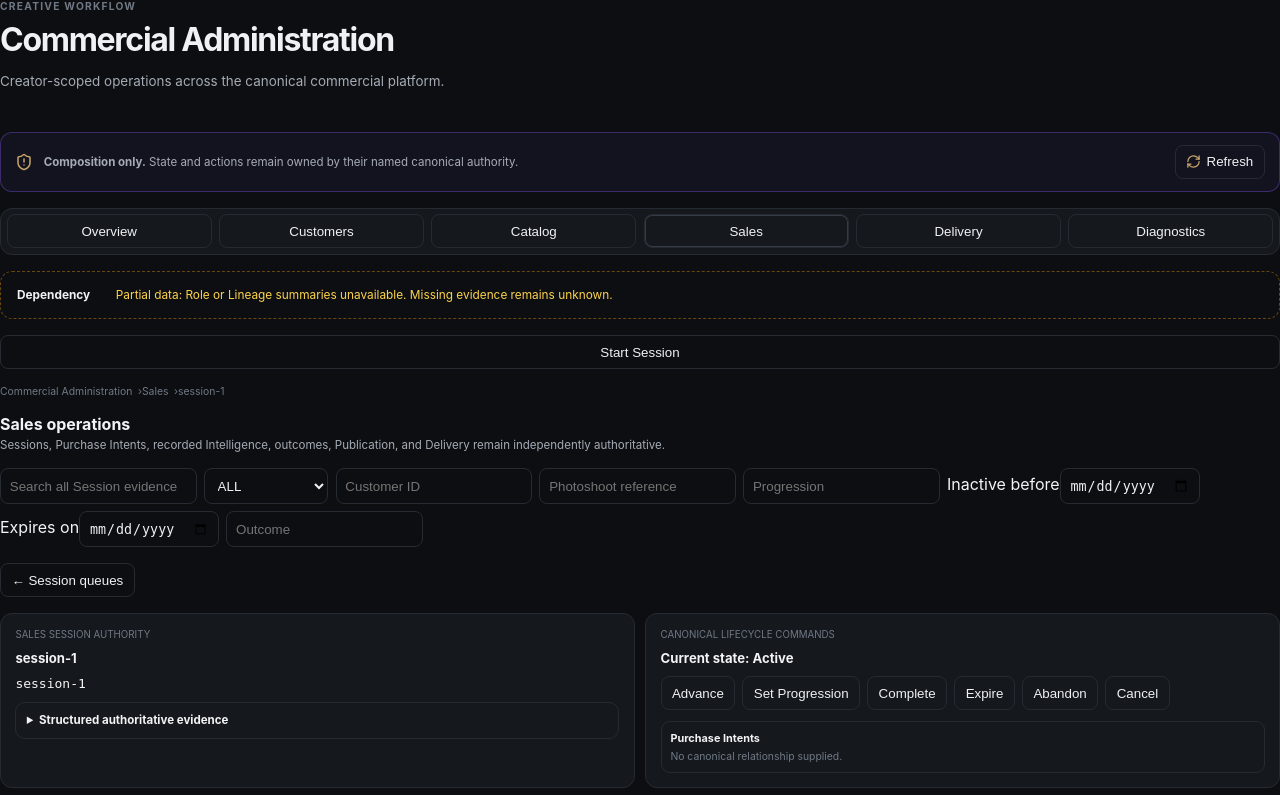
Test case: CommercialAdministrationPage › presents stale canonical Session transitions distinctly
What coordinates should you click on to do the following:
click the button "Complete"
I would click on:
 (907, 693)
Its box is [867,676,947,710].
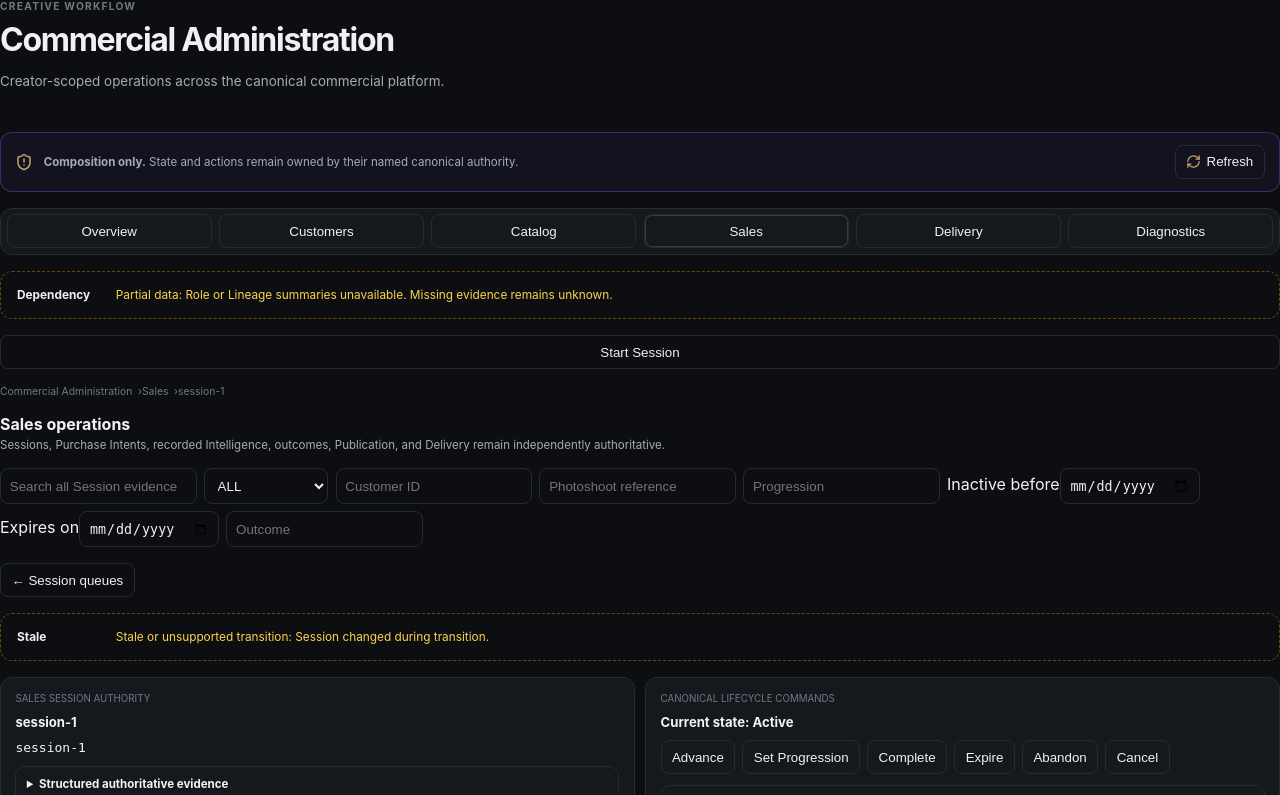
Now the text "Stale or unsupported transition" is shown, box [116,630,489,644]
